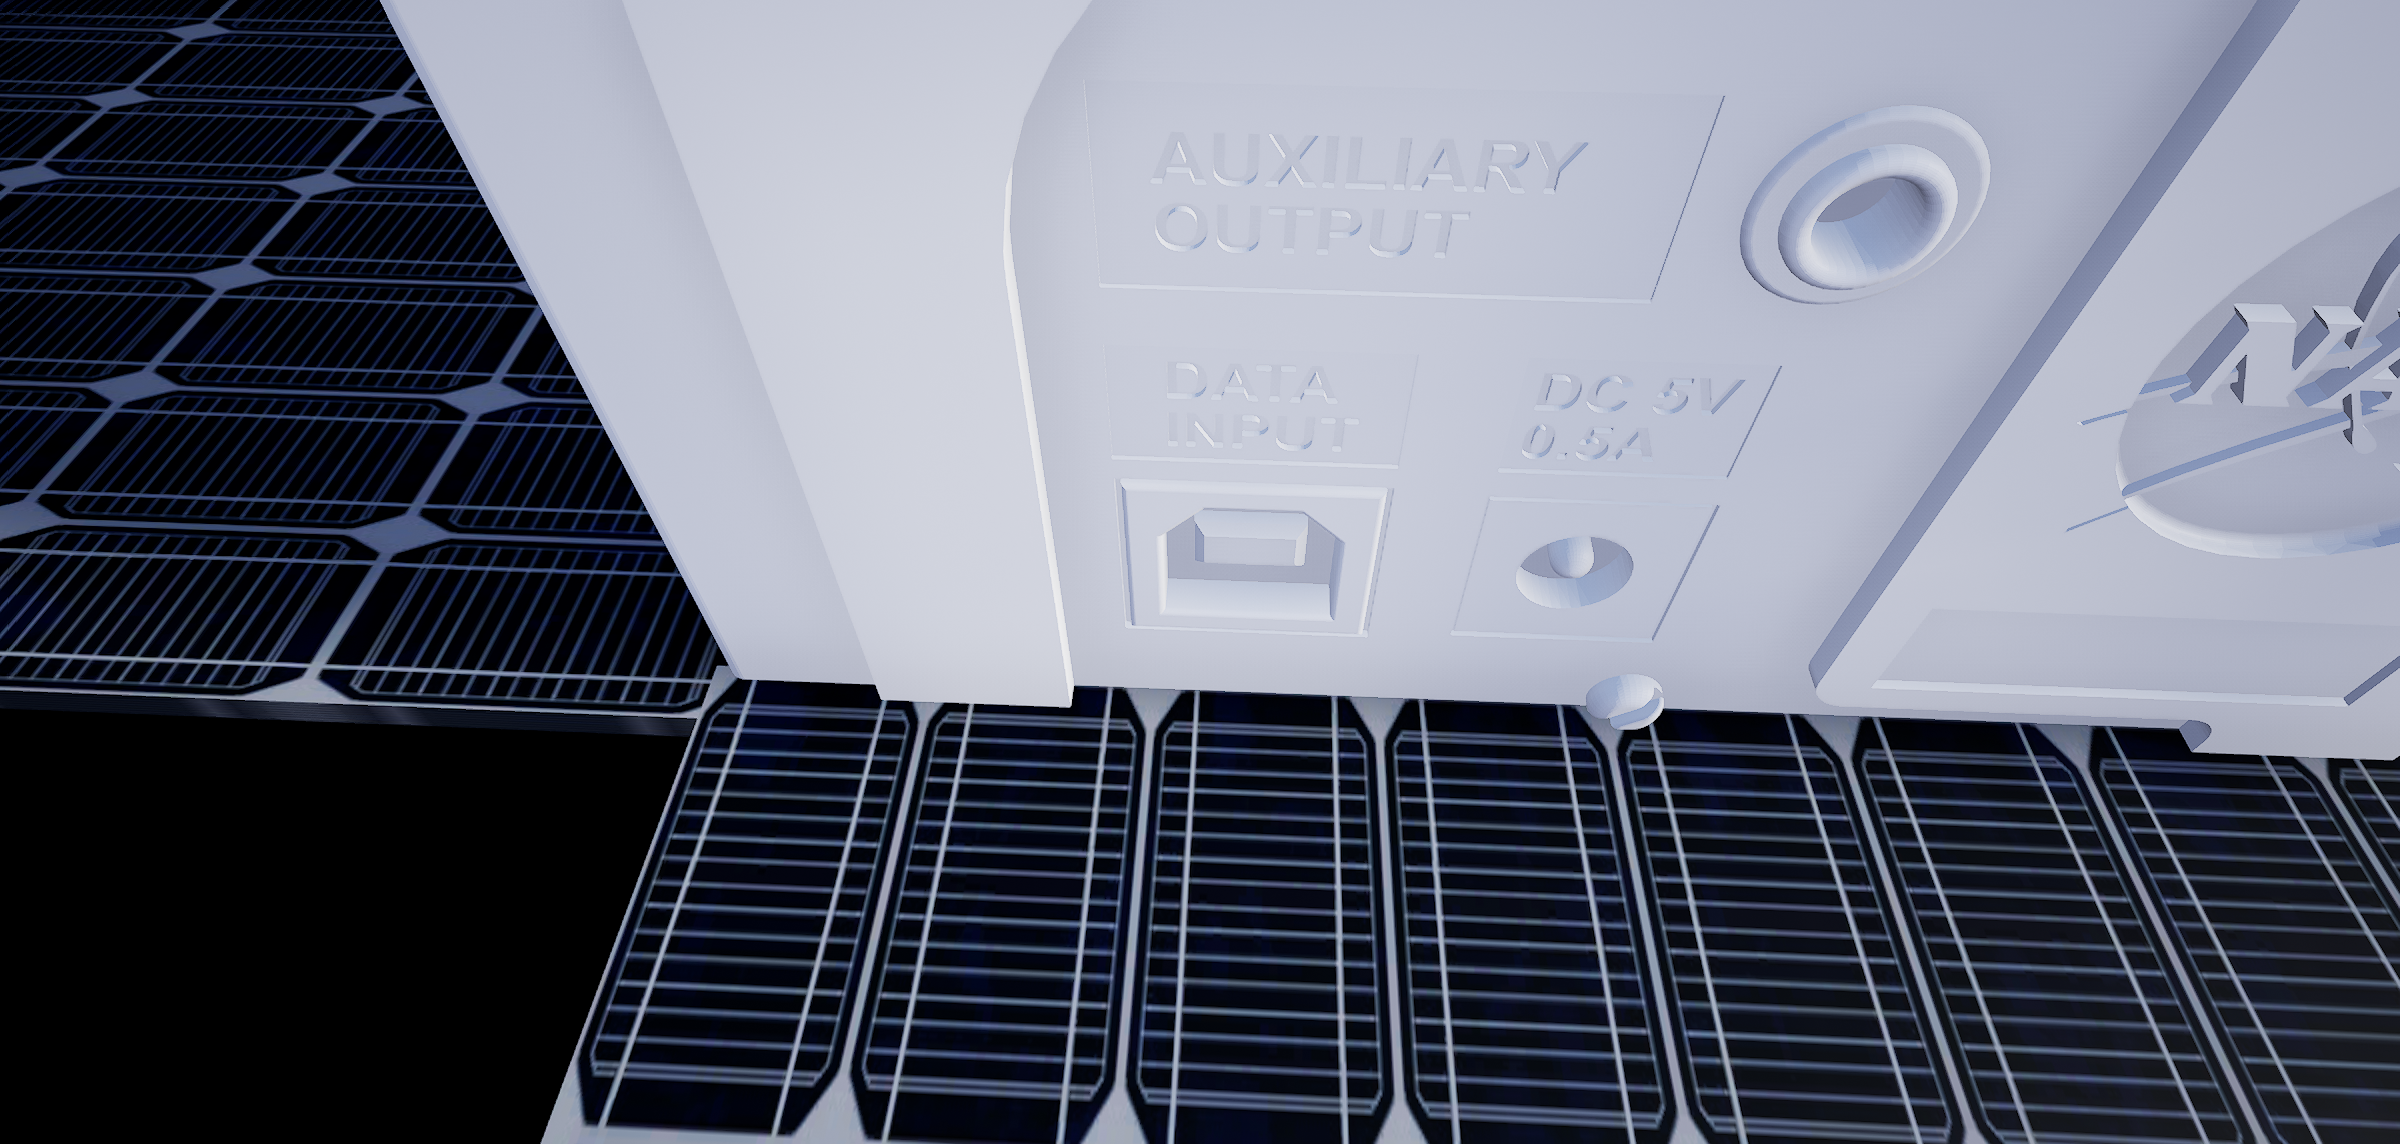aux: (1736, 87, 1984, 332)
dc: (1512, 525, 1638, 616)
usb: (1153, 502, 1347, 629)
